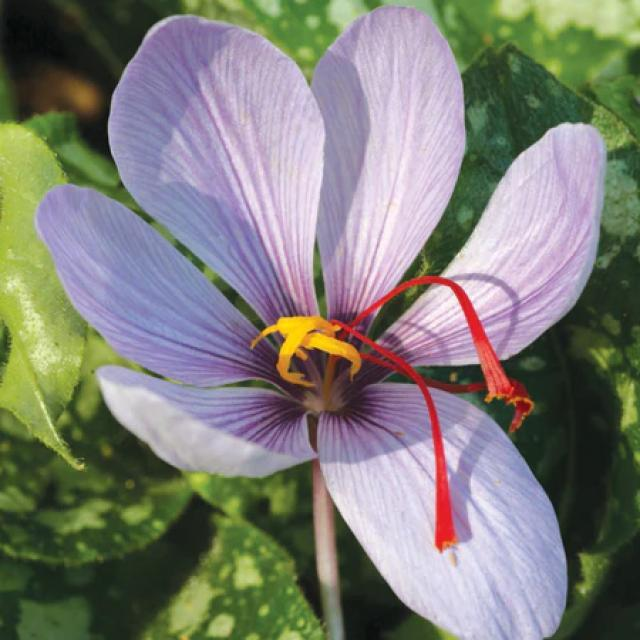Flower: (107, 54, 557, 527)
stigma: (349, 331, 465, 552), (355, 273, 531, 411)
